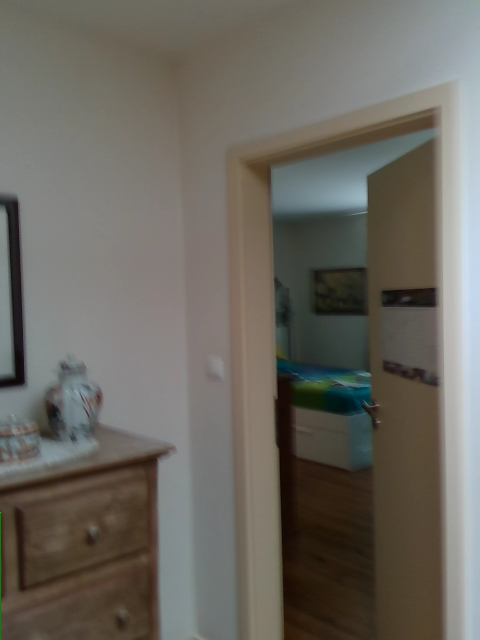semi: (230, 80, 472, 639)
